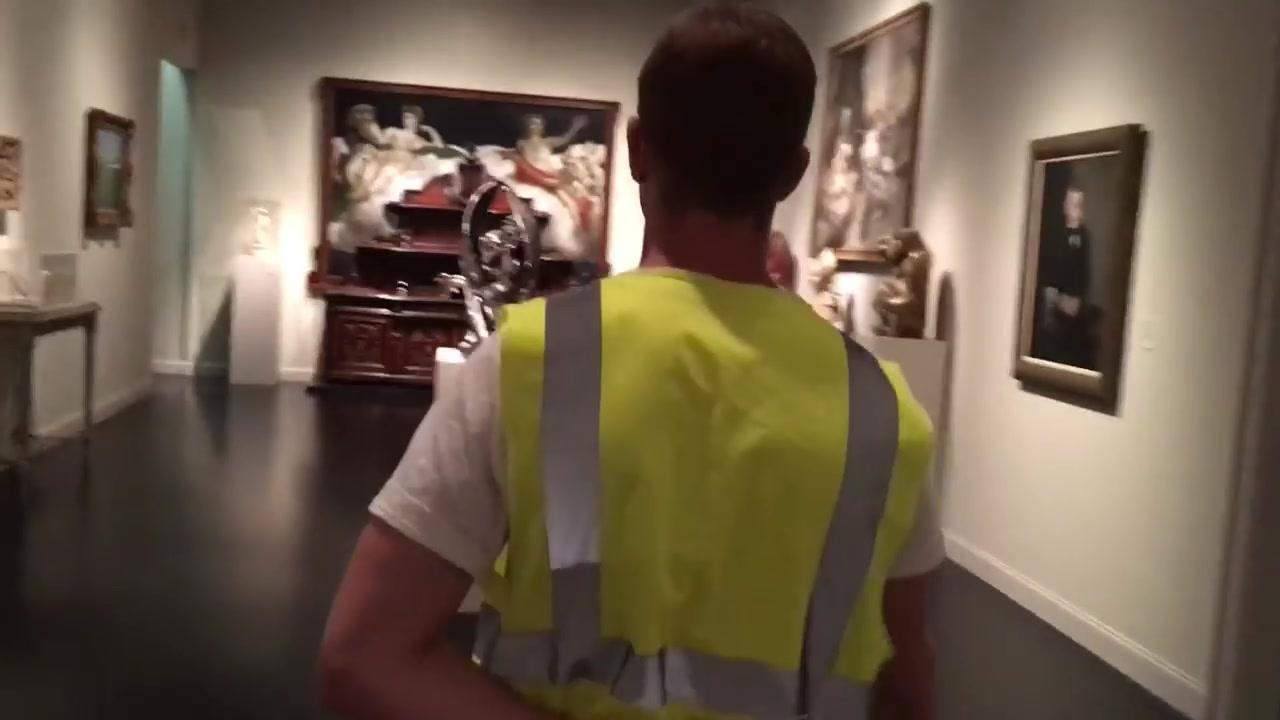Glass: (495, 266, 915, 701)
